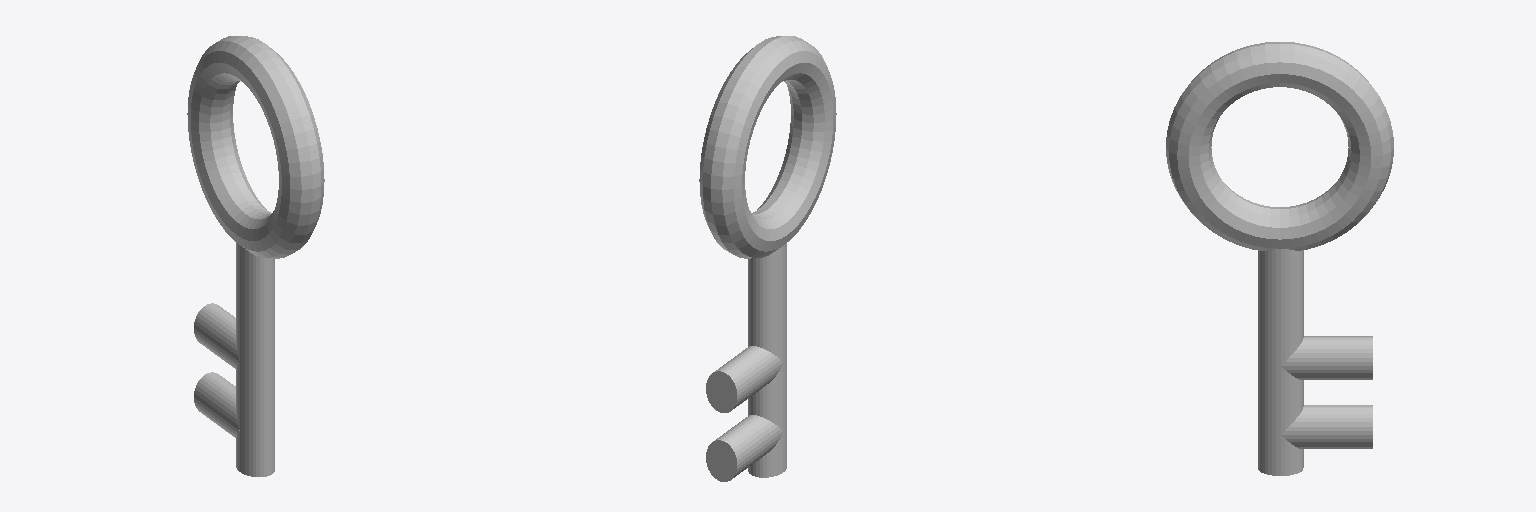
File: key.obj
The picture shows the model from 3 angles: view 1: azimuth 30°, elevation 25°; view 2: azimuth 150°, elevation 25°; view 3: azimuth 270°, elevation 25°; orthographic projection.
Visible parts, largest first — view 1: トーラス; view 2: トーラス; view 3: トーラス.
Part boxes in pixels (left/top/right/bottom): トーラス: left=187, top=36, right=324, bottom=476; トーラス: left=699, top=36, right=836, bottom=481; トーラス: left=1166, top=42, right=1393, bottom=475.
Size of the model in its own units: 0.25 by 2.56 by 1.25.